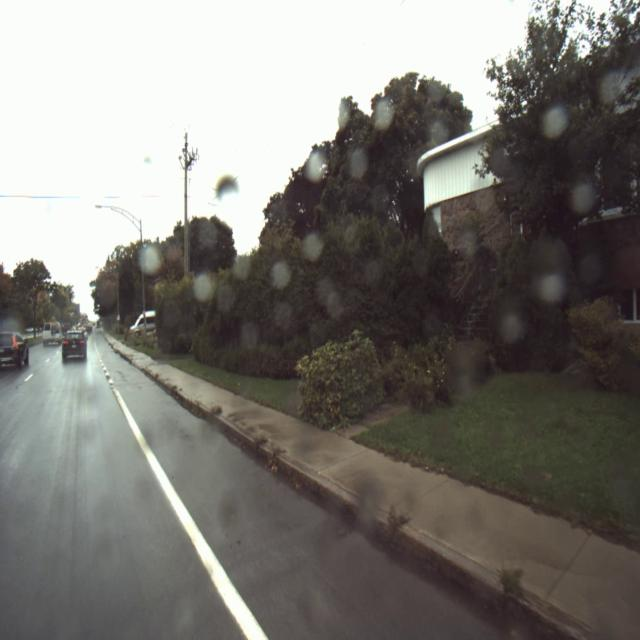car: (1, 330, 30, 370), (61, 330, 87, 364), (41, 321, 61, 348)
